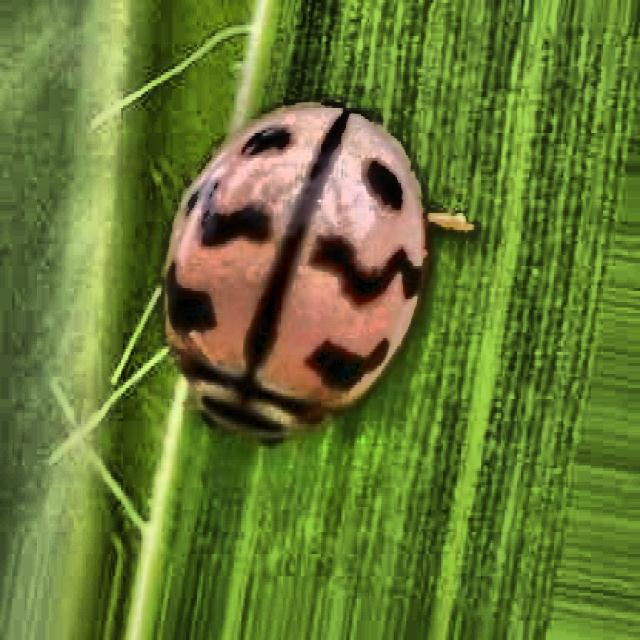Asian-Lady-beetle: (121, 64, 471, 451)
